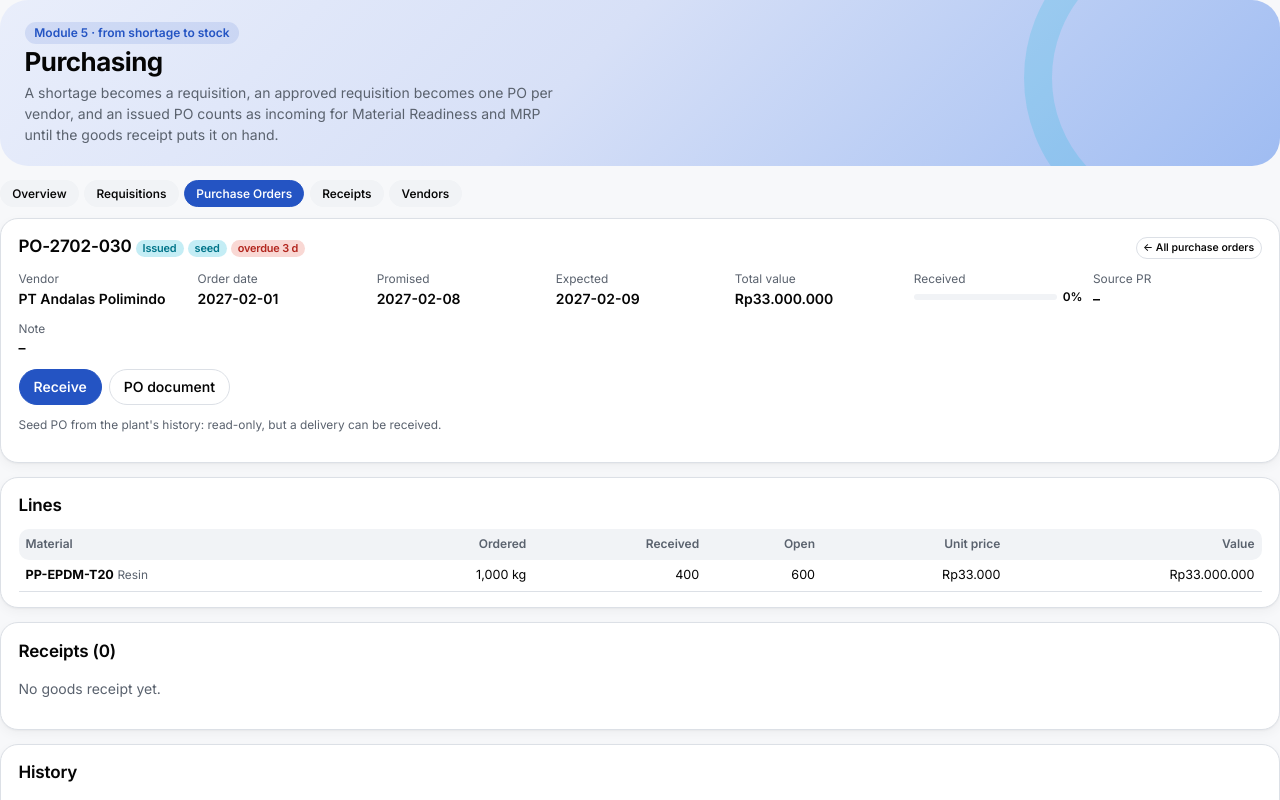
receive: a seed PO is read-only but can be received; the server's refusal is shown
The image size is (1280, 800).
Expected: the text "Seed PO from the plant's history" is shown, [18, 417, 441, 432]
Click the button "Receive" at (60, 387), box [18, 369, 102, 404]
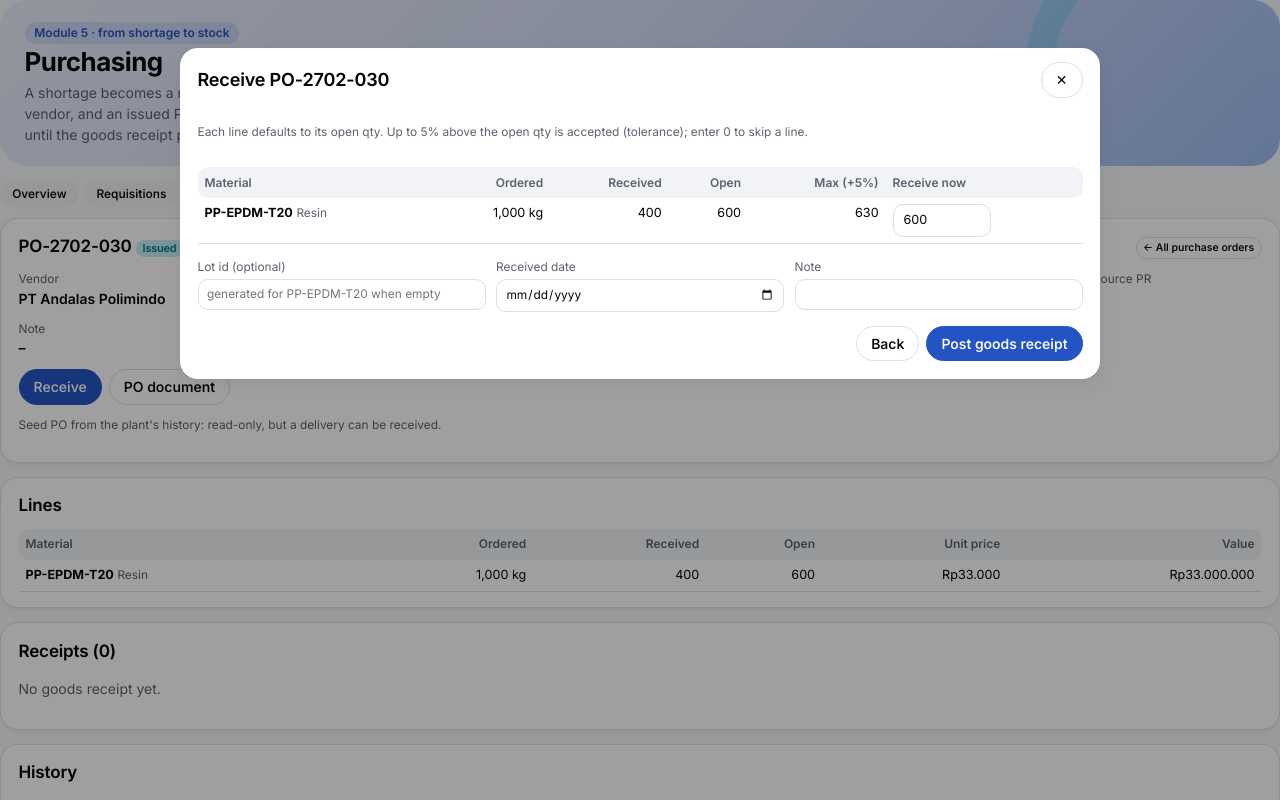
Click the button "Post goods receipt" at (1004, 344), box [926, 326, 1082, 361]
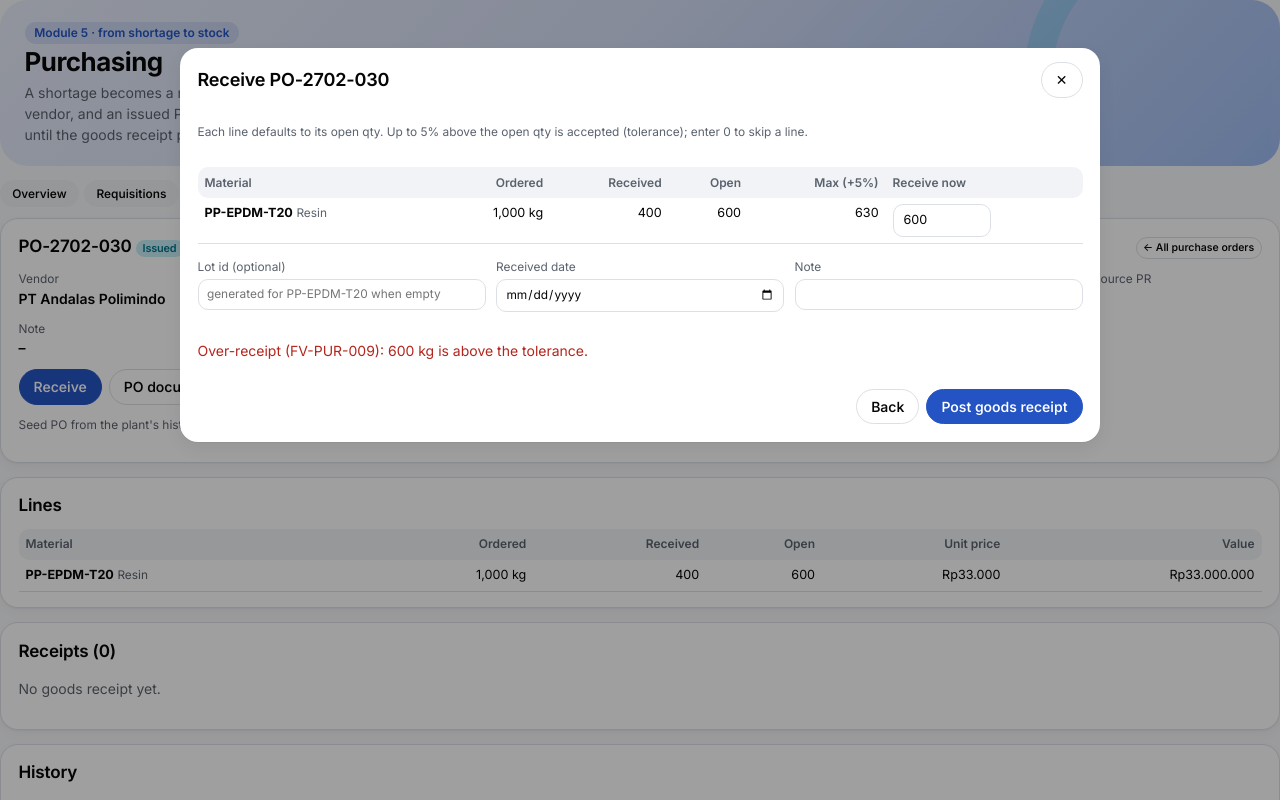
Result: the message reads "Over-receipt (FV-PUR-009): 600 kg is above the tolerance." at [198, 342, 588, 359]
